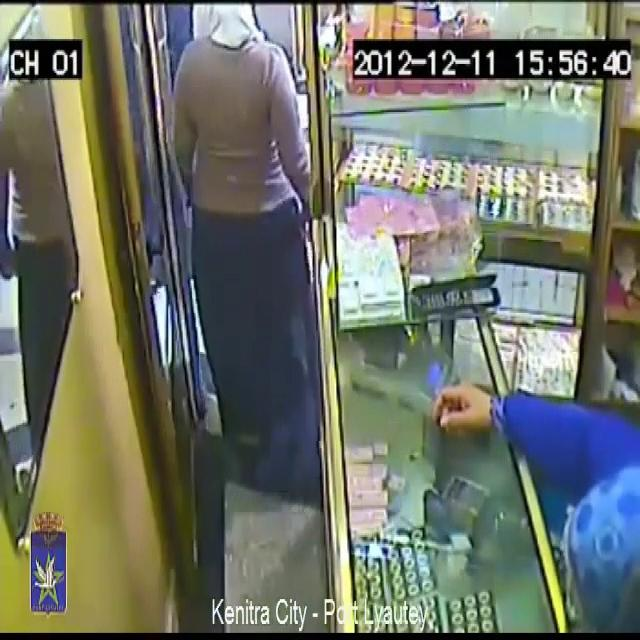normal: (148, 0, 323, 523), (435, 264, 640, 640)
